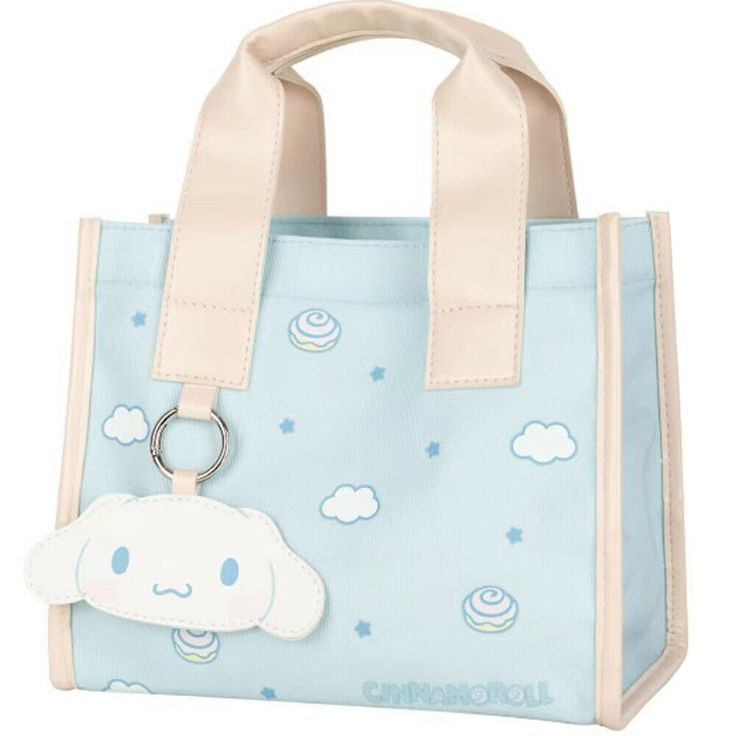nylon: (42, 1, 689, 730)
